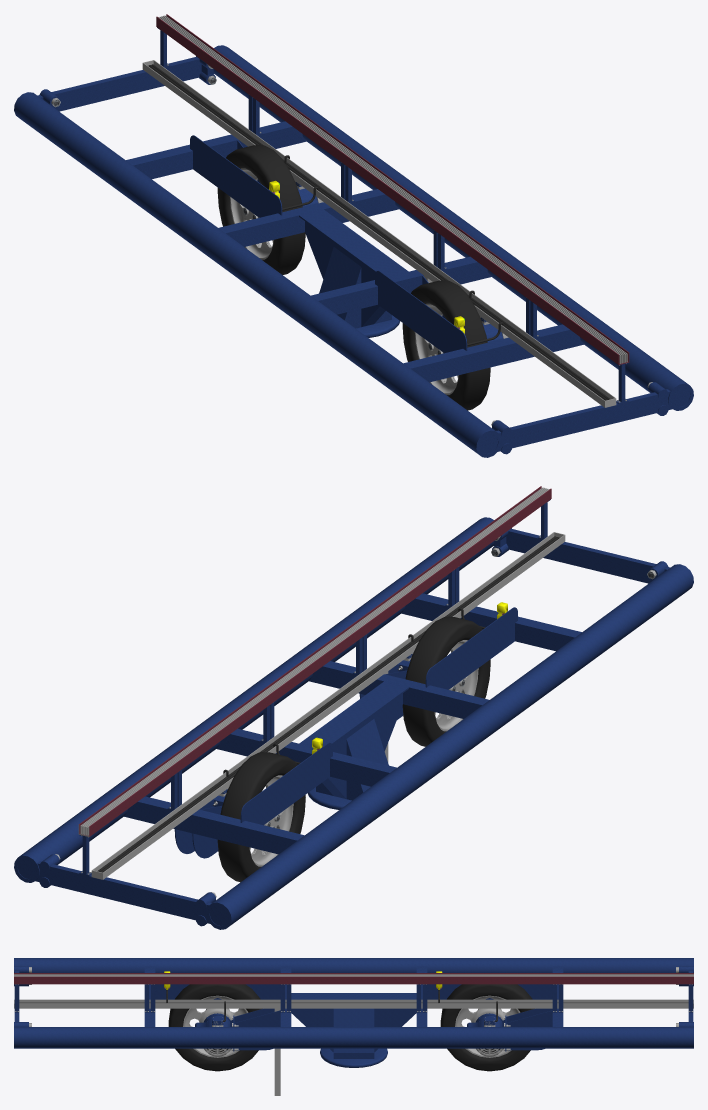
File: Station Midsection.dae
The picture shows the model from 3 angles, top to bottom: view 1: azimuth 30°, elevation 25°; view 2: azimuth 150°, elevation 25°; view 3: azimuth 270°, elevation 25°; orthographic projection. The views are drawn at different scales.
Parts seen in each view (by area): view 1: Track (×7), Mid_Detail (×6), wheel1, wheel0, High_Detail (×2); view 2: Track (×7), Mid_Detail (×6), wheel1, wheel0, High_Detail (×3); view 3: Track (×6), Mid_Detail (×6), wheel0 (×3), wheel1 (×3), High_Detail (×3).
Part boxes in pixels (left/top/right/bottom): Track (×7): left=14, top=45, right=693, bottom=457; Mid_Detail (×6): left=142, top=14, right=628, bottom=407; wheel1: left=217, top=145, right=305, bottom=274; wheel0: left=402, top=280, right=490, bottom=410; High_Detail (×2): left=149, top=64, right=610, bottom=400; Track (×7): left=14, top=517, right=693, bottom=929; Mid_Detail (×6): left=78, top=486, right=565, bottom=879; wheel1: left=217, top=752, right=305, bottom=882; wheel0: left=402, top=616, right=490, bottom=746; High_Detail (×3): left=97, top=536, right=558, bottom=872; Track (×6): left=14, top=958, right=693, bottom=1067; Mid_Detail (×6): left=14, top=973, right=693, bottom=1095; wheel0 (×3): left=168, top=984, right=262, bottom=1071; wheel1 (×3): left=440, top=984, right=534, bottom=1071; High_Detail (×3): left=19, top=1002, right=688, bottom=1051.
Size of the model in its own units: 53.48 by 197 by 39.54.
9 materials, 3 textured.
